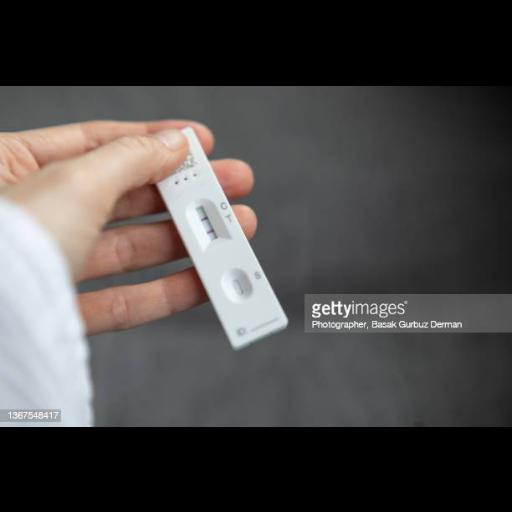Pos: (155, 160, 290, 349)
